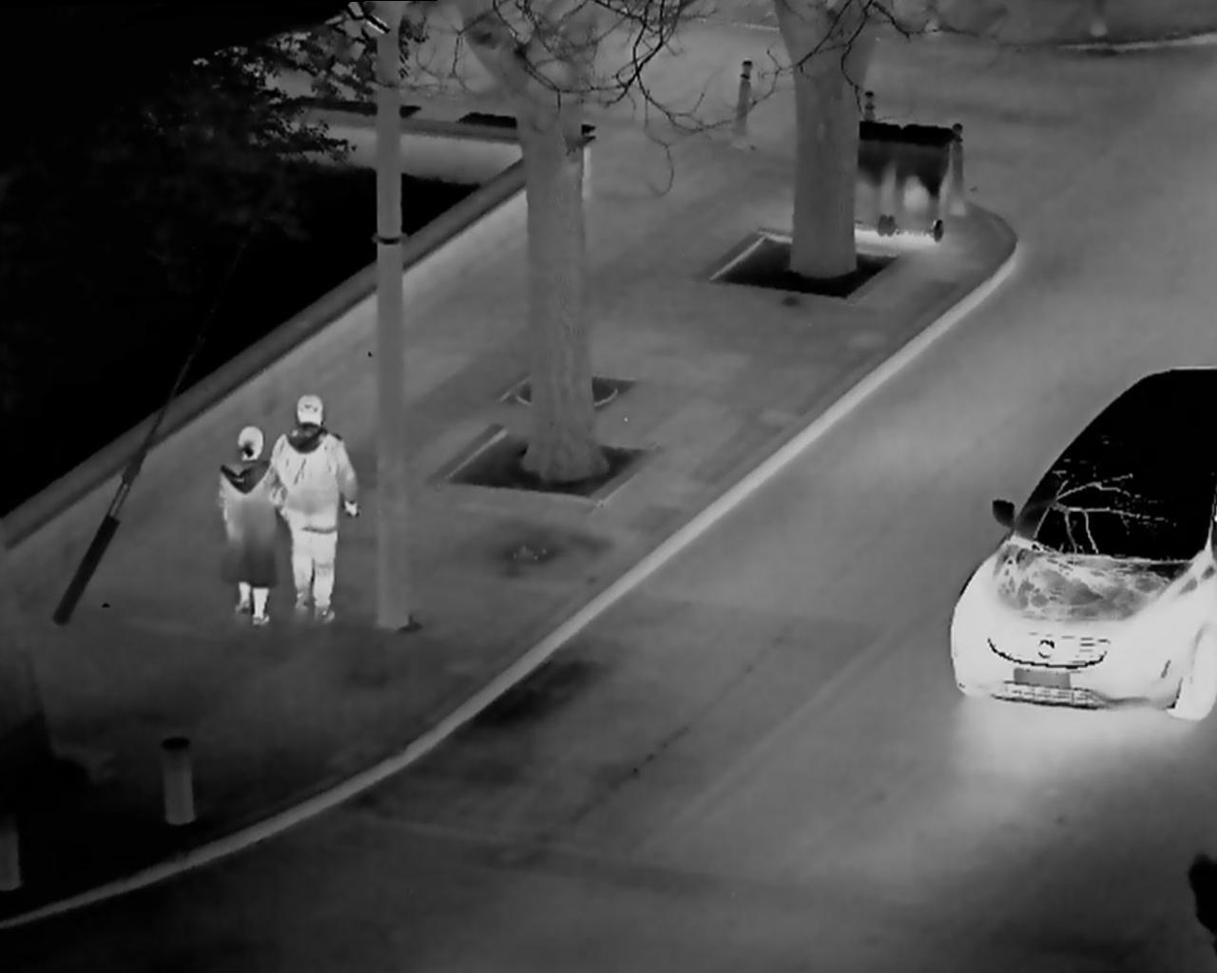person: (270, 386, 366, 628), (216, 414, 284, 632)
